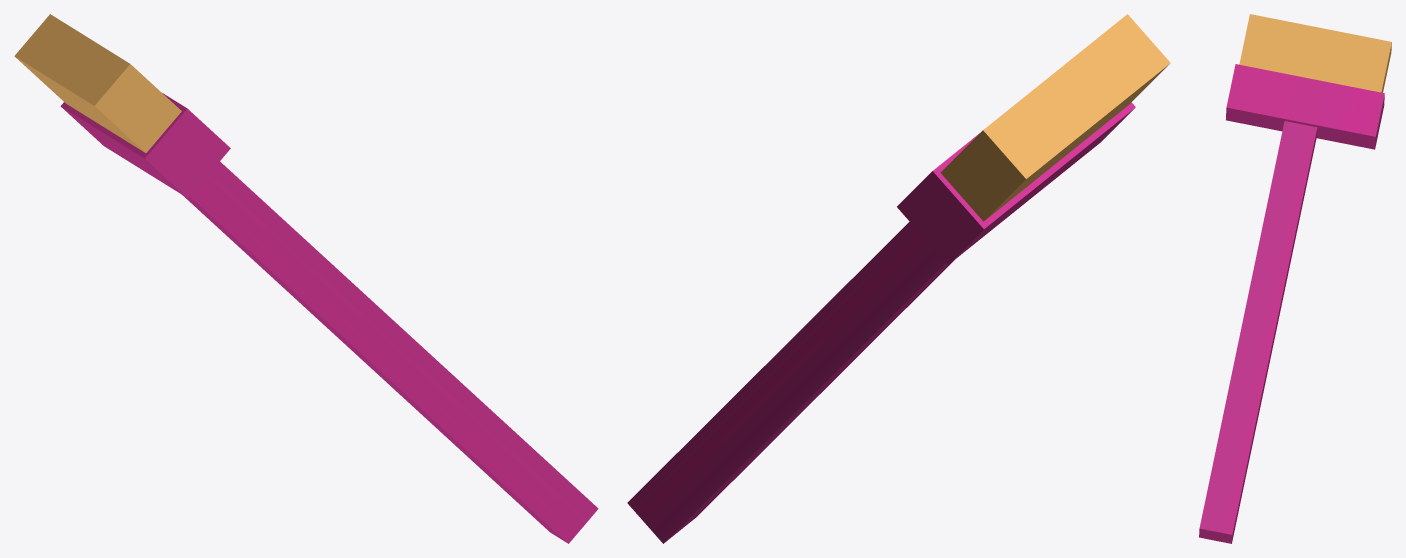
The model's file is MopStaticMesh.fbx.
3 renders of one model, left to right at view 1: azimuth 30°, elevation 25°; view 2: azimuth 150°, elevation 25°; view 3: azimuth 270°, elevation 25°, orthographic. The views are drawn at different scales.
Visible parts, largest first — view 1: mop; view 2: mop; view 3: mop.
Boxes of the visible parts, box(x1,y1,x2,y2) form: mop: box(14, 14, 598, 543); mop: box(627, 14, 1170, 543); mop: box(1199, 14, 1391, 543).
Bounding box in the file's own units: 2.07 × 2.33 × 1.04.
